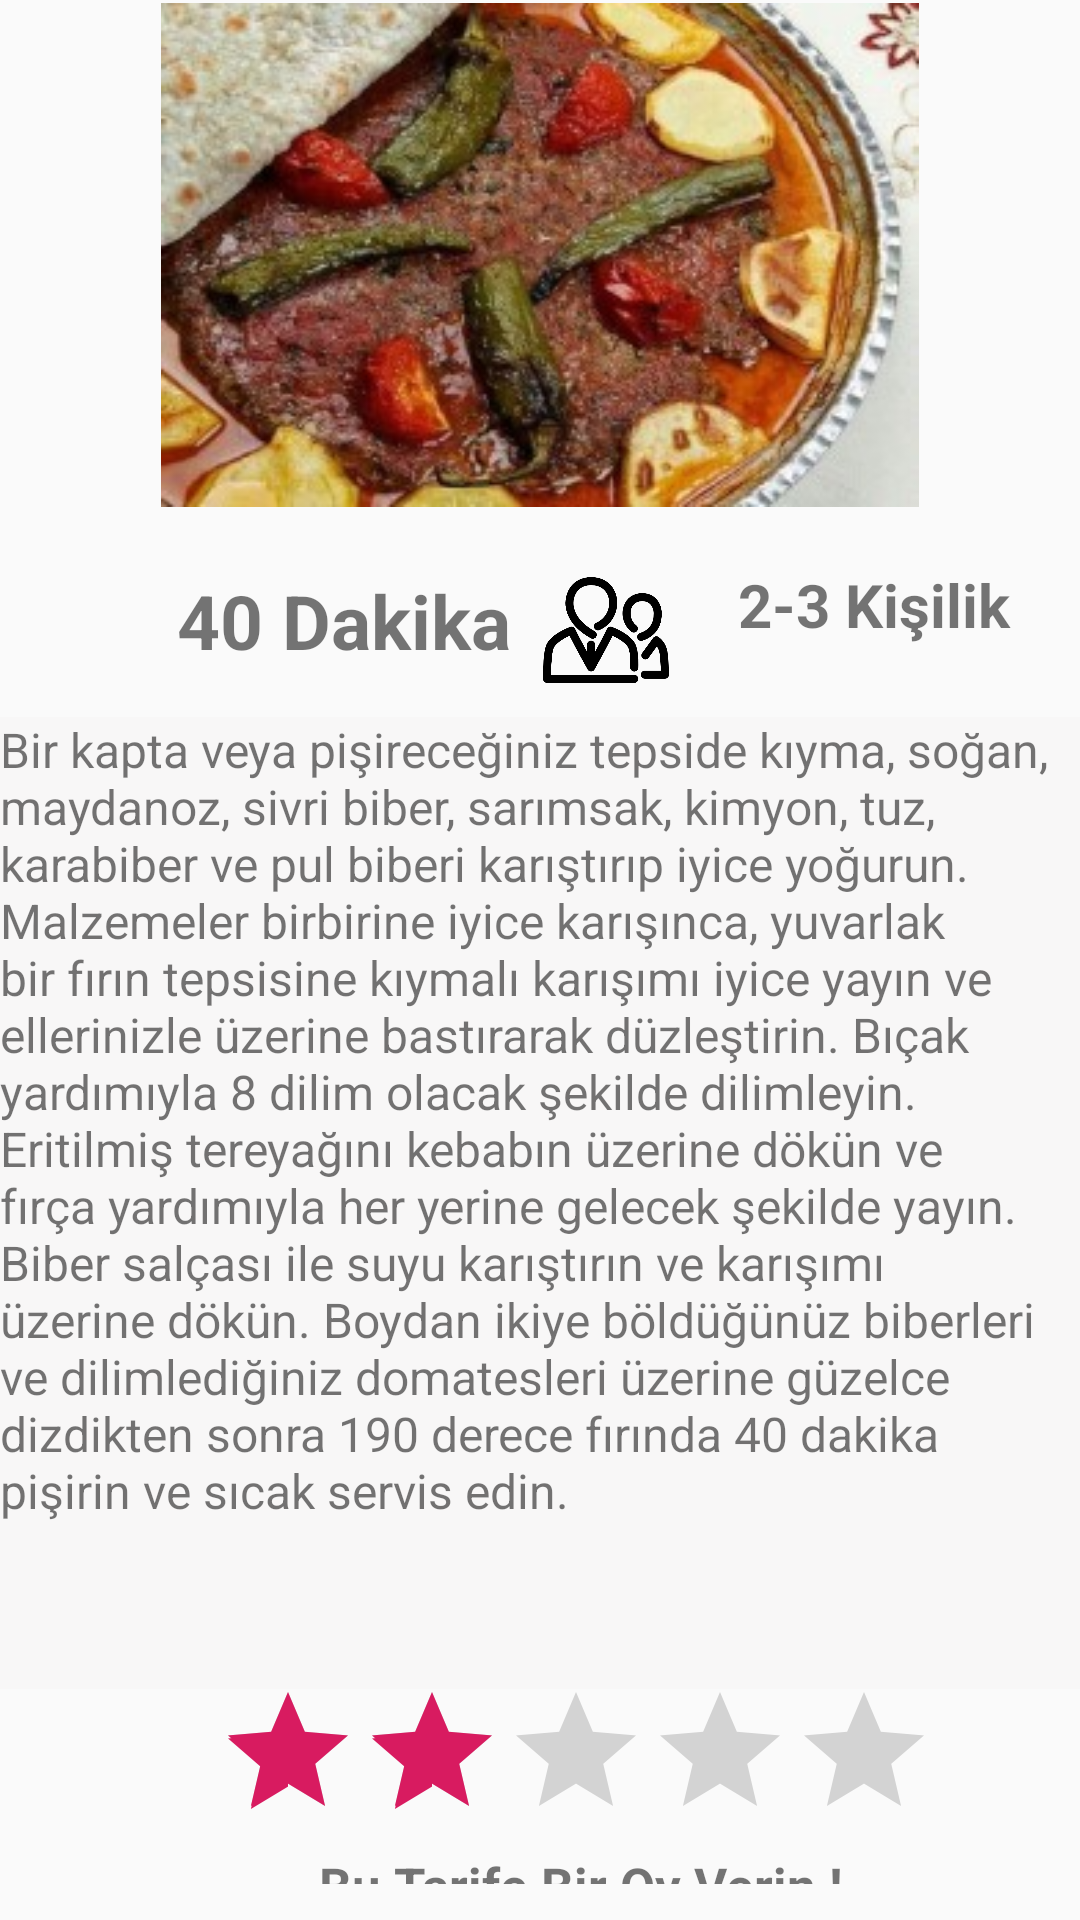

Where icons sit on this 1080 × 1920 app screen, as bbox=(x1, y1, x2, y2):
personicon: bbox=(543, 577, 669, 683)
